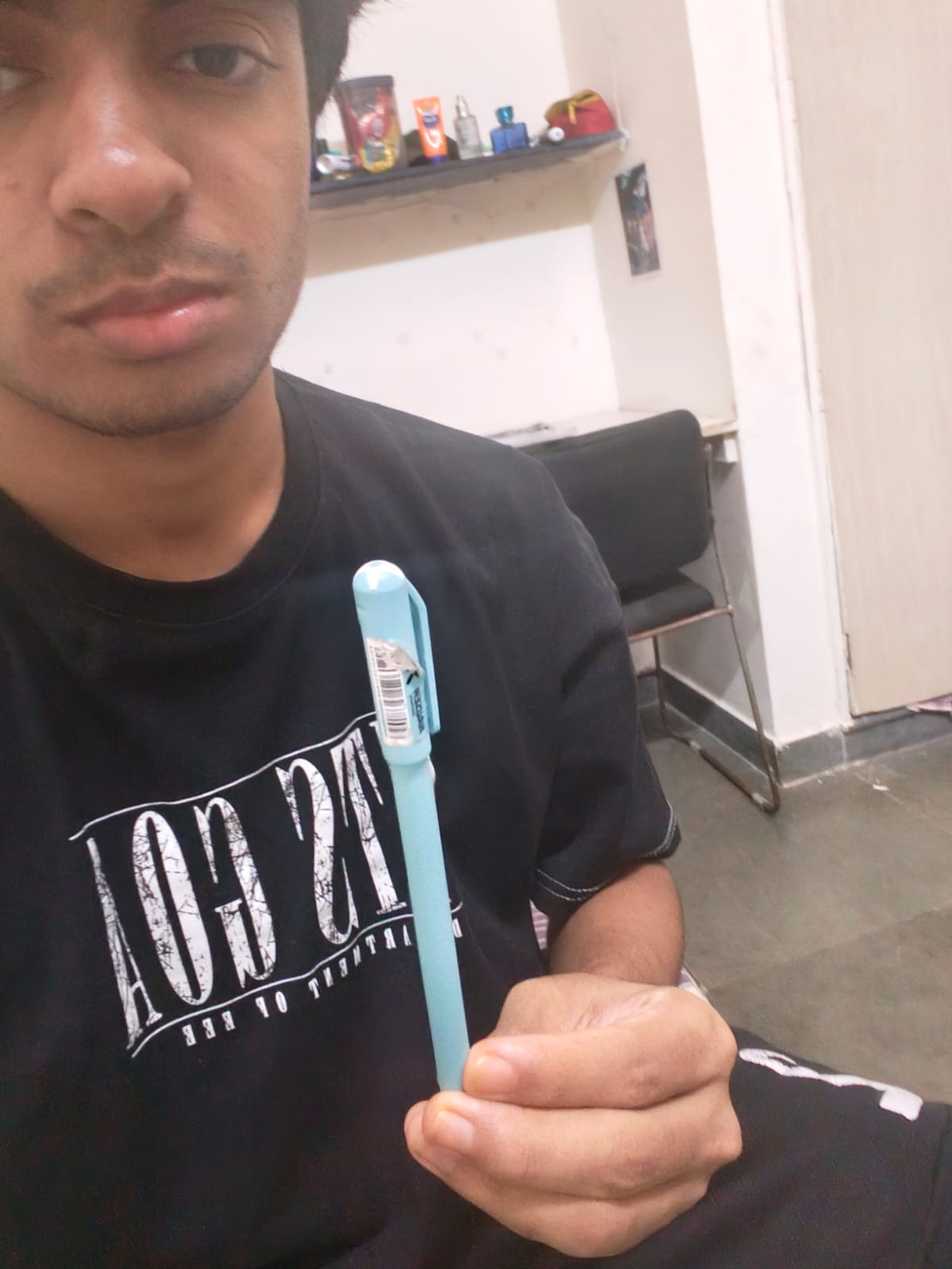pen: (321, 544, 537, 1105)
